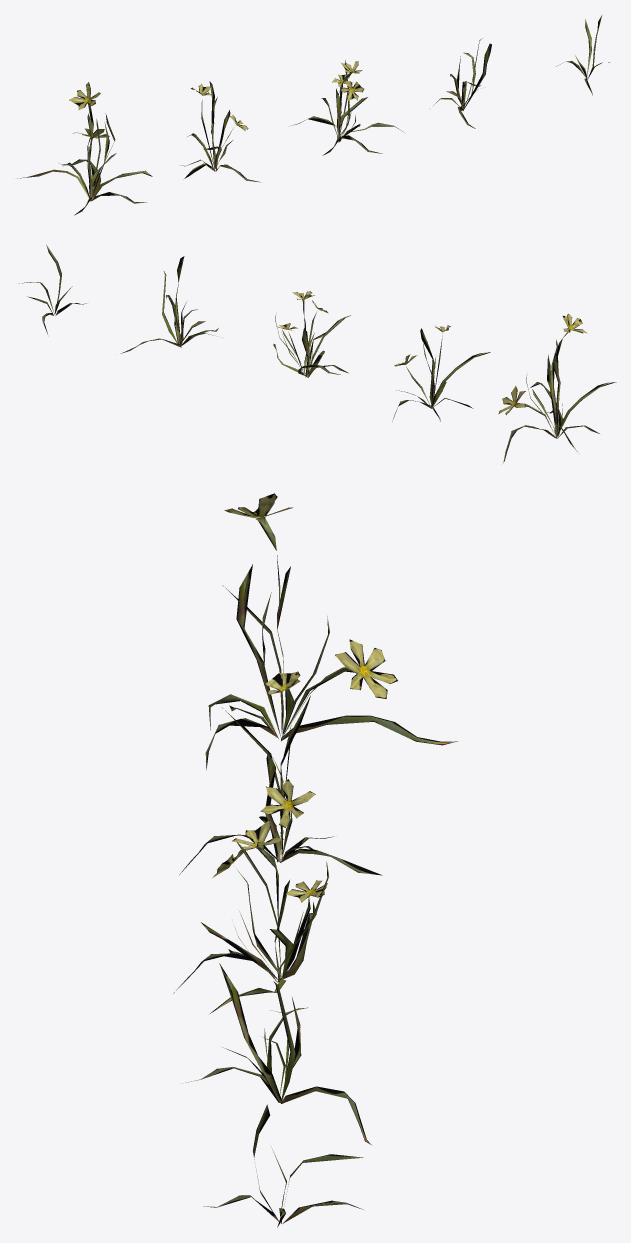
The model's file is flower_empodium.glb.
3 views of the same model, one above another, from view 1: azimuth 30°, elevation 25°; view 2: azimuth 150°, elevation 25°; view 3: azimuth 270°, elevation 25° (orthographic). The views are drawn at different scales.
Visible parts, largest first — view 1: flower_empodium_a_LOD0; view 2: flower_empodium_a_LOD0; view 3: flower_empodium_a_LOD0.
Part boxes in pixels (<box>): flower_empodium_a_LOD0: <box>17,15,609,215</box>; flower_empodium_a_LOD0: <box>18,244,616,462</box>; flower_empodium_a_LOD0: <box>173,493,457,1227</box>.
Size of the model in its own units: 1.32 by 0.2682 by 0.2837.
Materials: 1 (1 with a texture image).
